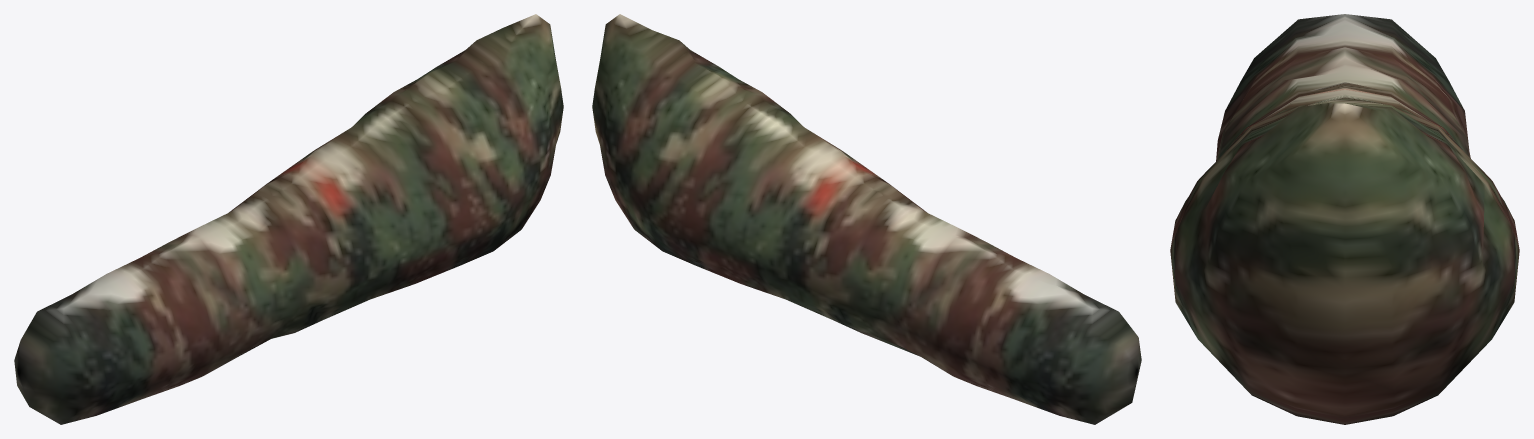
The model's file is R-HAND.obj.
3 views of the same model, side by side, from view 1: azimuth 30°, elevation 25°; view 2: azimuth 150°, elevation 25°; view 3: azimuth 270°, elevation 25° (orthographic). The views are drawn at different scales.
Size of the model in its own units: 0.5813 by 0.3041 by 0.1873.
